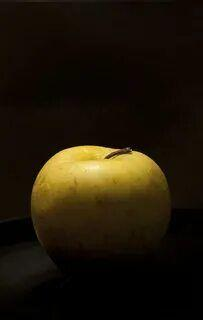Apple: (30, 146, 170, 266)
